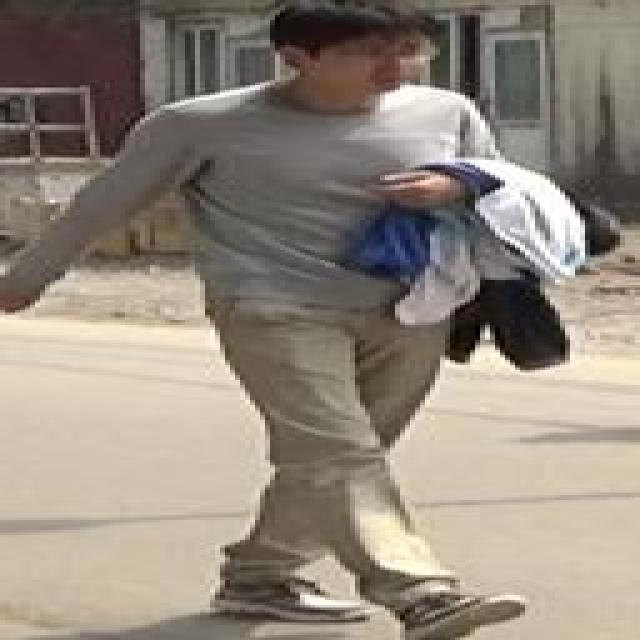adult: (136, 0, 554, 639)
